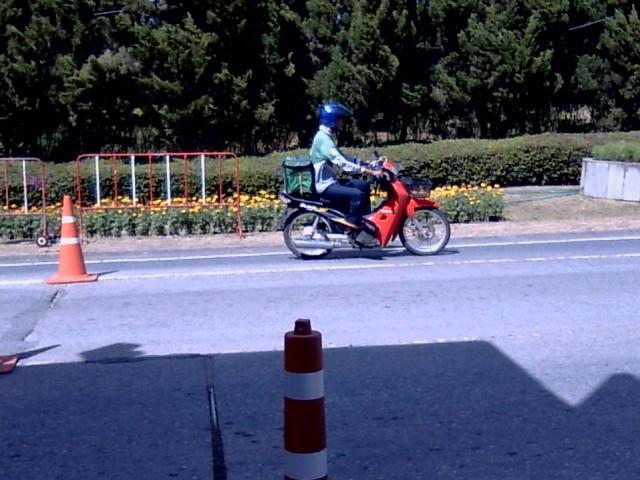helmet: (317, 98, 353, 130)
motor: (280, 151, 449, 258)
person: (310, 103, 376, 227)
